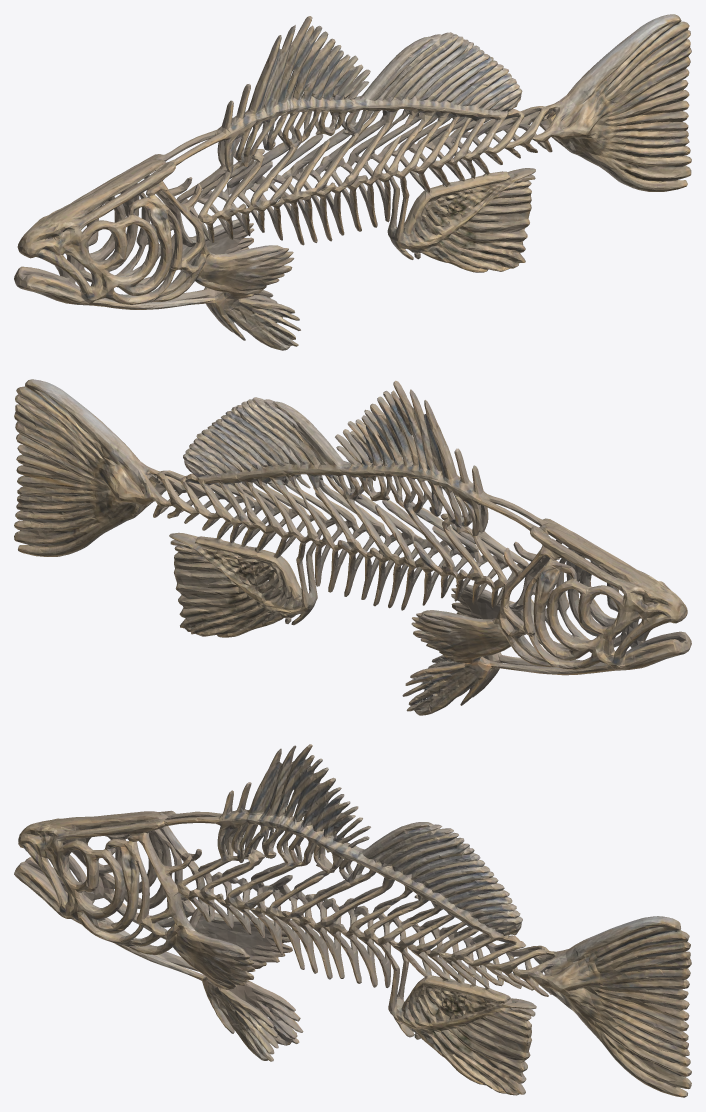
Rendered from LosPeces.fbx.
3 renders of one model, top to bottom at view 1: azimuth 30°, elevation 25°; view 2: azimuth 150°, elevation 25°; view 3: azimuth 330°, elevation 25°, orthographic.
Visible parts, largest first — view 1: world; view 2: world; view 3: world.
Part boxes in pixels (box(x1,y1,x2,y2)): world: box(14, 14, 691, 350); world: box(14, 379, 691, 715); world: box(14, 744, 691, 1097).
Size of the model in its own units: 199 by 89.53 by 21.
Materials: 1 (1 with a texture image).
